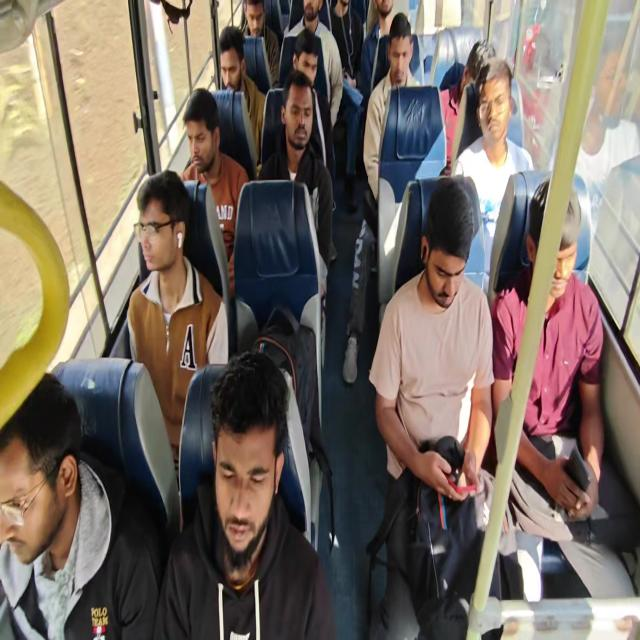person: (4, 370, 83, 582), (211, 342, 281, 577), (129, 158, 195, 296), (528, 177, 584, 314), (422, 170, 474, 316), (174, 83, 228, 170), (474, 65, 520, 150), (281, 71, 321, 166), (385, 12, 426, 82), (214, 24, 253, 93), (234, 0, 278, 45), (456, 36, 494, 88), (292, 28, 322, 81), (364, 0, 408, 24), (300, 0, 324, 28)
